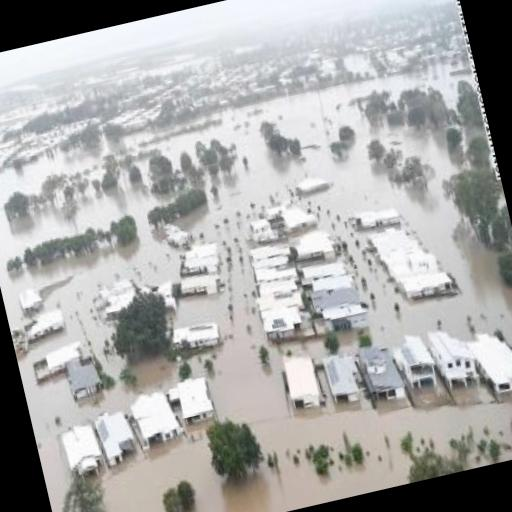flood: (98, 125, 512, 512), (0, 64, 471, 332), (247, 178, 512, 408), (501, 189, 507, 207)
house: (430, 315, 492, 399), (128, 384, 186, 454), (466, 322, 512, 400), (397, 329, 447, 399), (92, 408, 143, 472), (278, 348, 324, 418), (356, 341, 406, 403), (168, 372, 218, 432), (62, 419, 107, 482), (320, 351, 368, 405), (37, 336, 99, 377), (170, 316, 228, 357), (400, 265, 458, 303), (60, 353, 102, 404), (259, 304, 308, 344), (175, 240, 224, 278), (290, 228, 336, 268), (322, 300, 370, 338), (176, 268, 226, 302), (352, 204, 404, 236), (252, 260, 301, 291), (308, 268, 357, 298), (280, 199, 320, 234), (288, 170, 334, 200), (259, 288, 306, 316), (32, 306, 69, 340), (250, 215, 278, 244)
